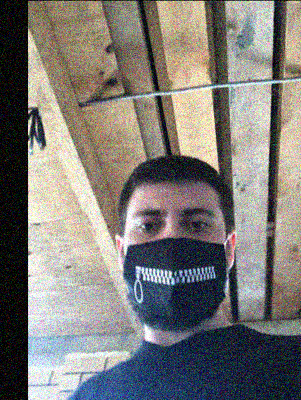with_mask: (122, 197, 226, 332)
